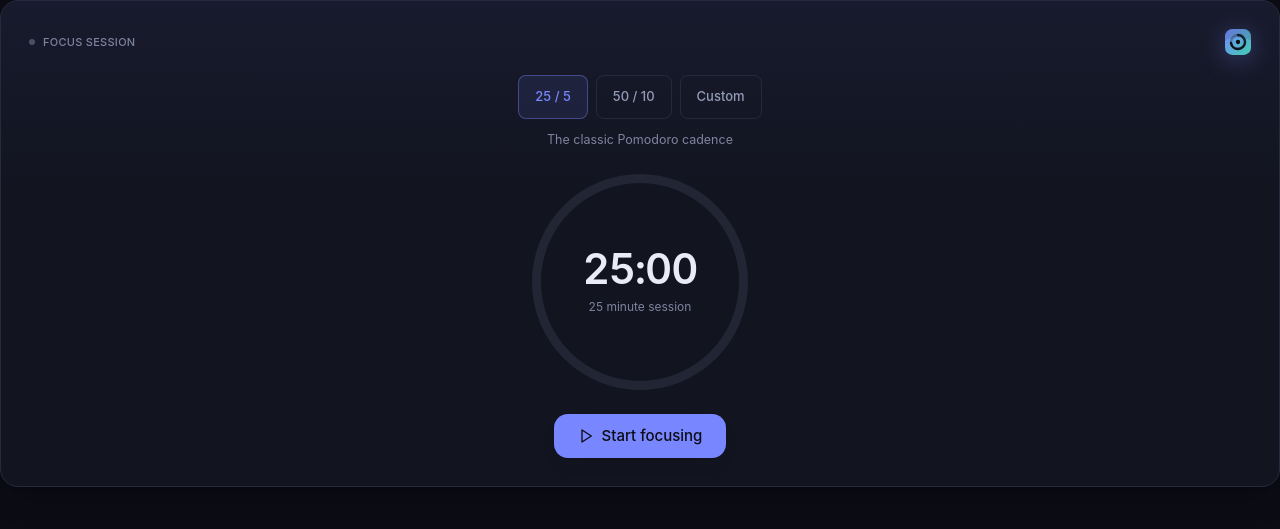
Scenario: QuickTimer › lets a custom length be retyped without the field fighting back
Click the button "Custom" at (721, 97), box x1=680 y1=75 x2=762 y2=119
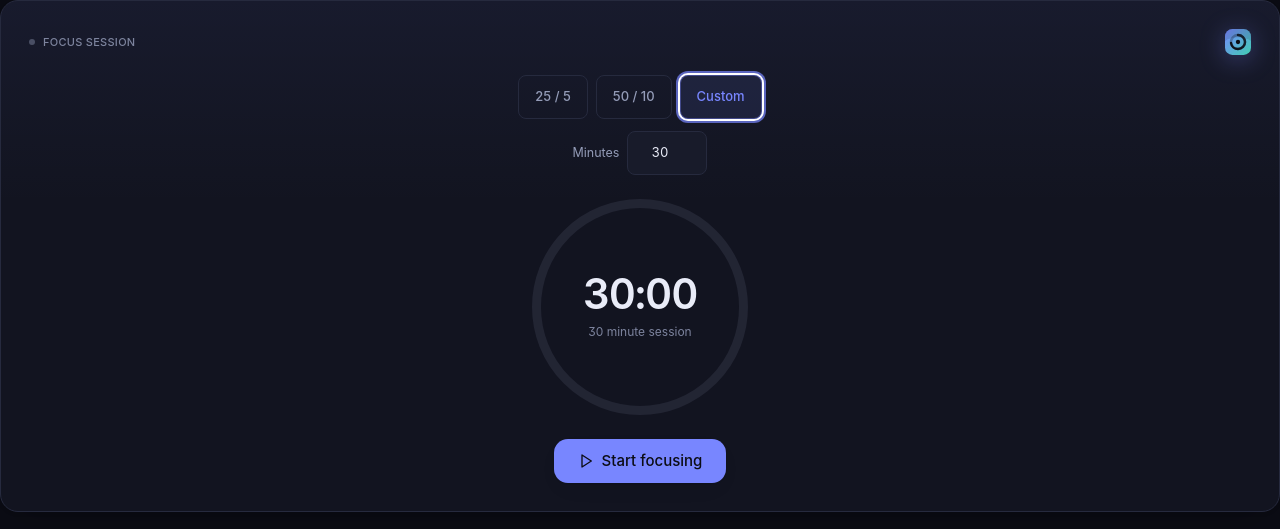
Replace the text in the number field labelled "Minutes" with "45" at (668, 153), box x1=628 y1=131 x2=708 y2=175
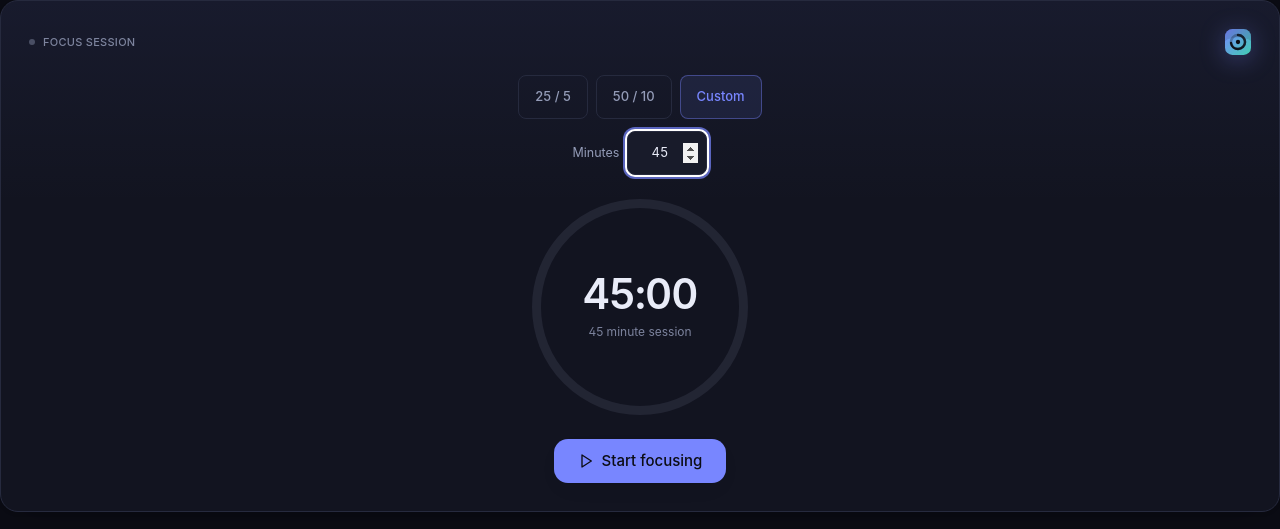
Now the text "45:00" is shown, box x1=583 y1=273 x2=697 y2=315
